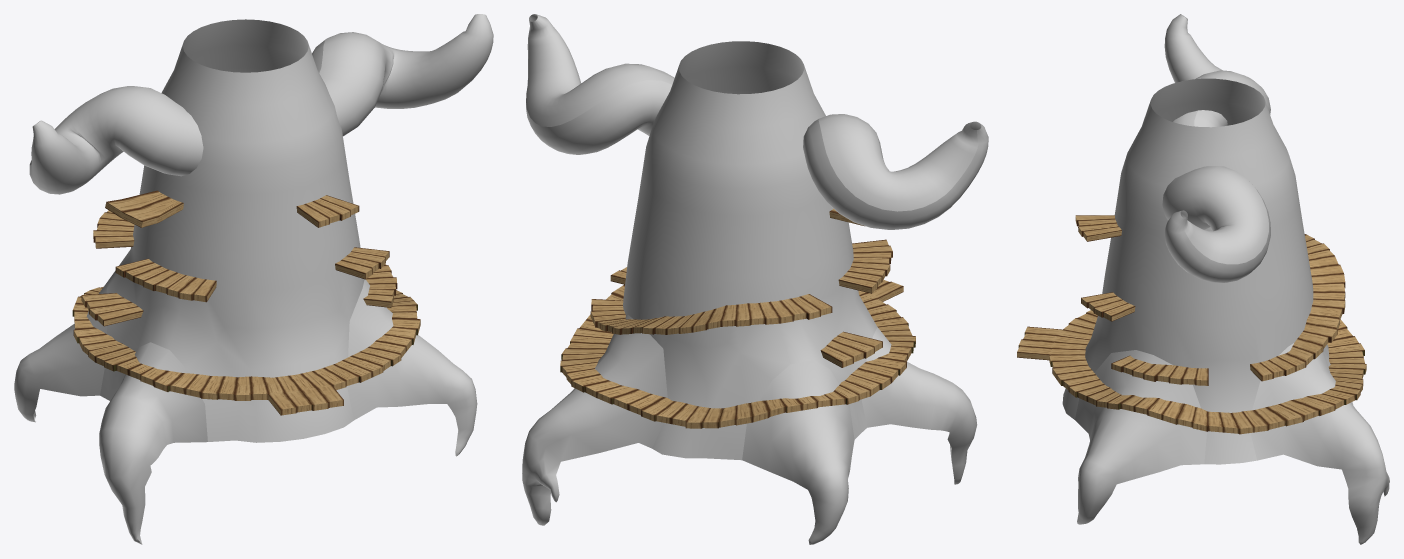
The model's file is SM_world_1_tree_trunk.fbx.
3 views of the same model, side by side, from view 1: azimuth 30°, elevation 25°; view 2: azimuth 150°, elevation 25°; view 3: azimuth 270°, elevation 25° (orthographic). The views are drawn at different scales.
Visible parts, largest first — view 1: Trunk; view 2: Trunk; view 3: Trunk.
Part boxes in pixels (left/top/right/bottom): Trunk: left=14, top=14, right=493, bottom=544; Trunk: left=522, top=14, right=988, bottom=544; Trunk: left=1017, top=14, right=1389, bottom=544.
Size of the model in its own units: 15998 by 12335 by 14202.
